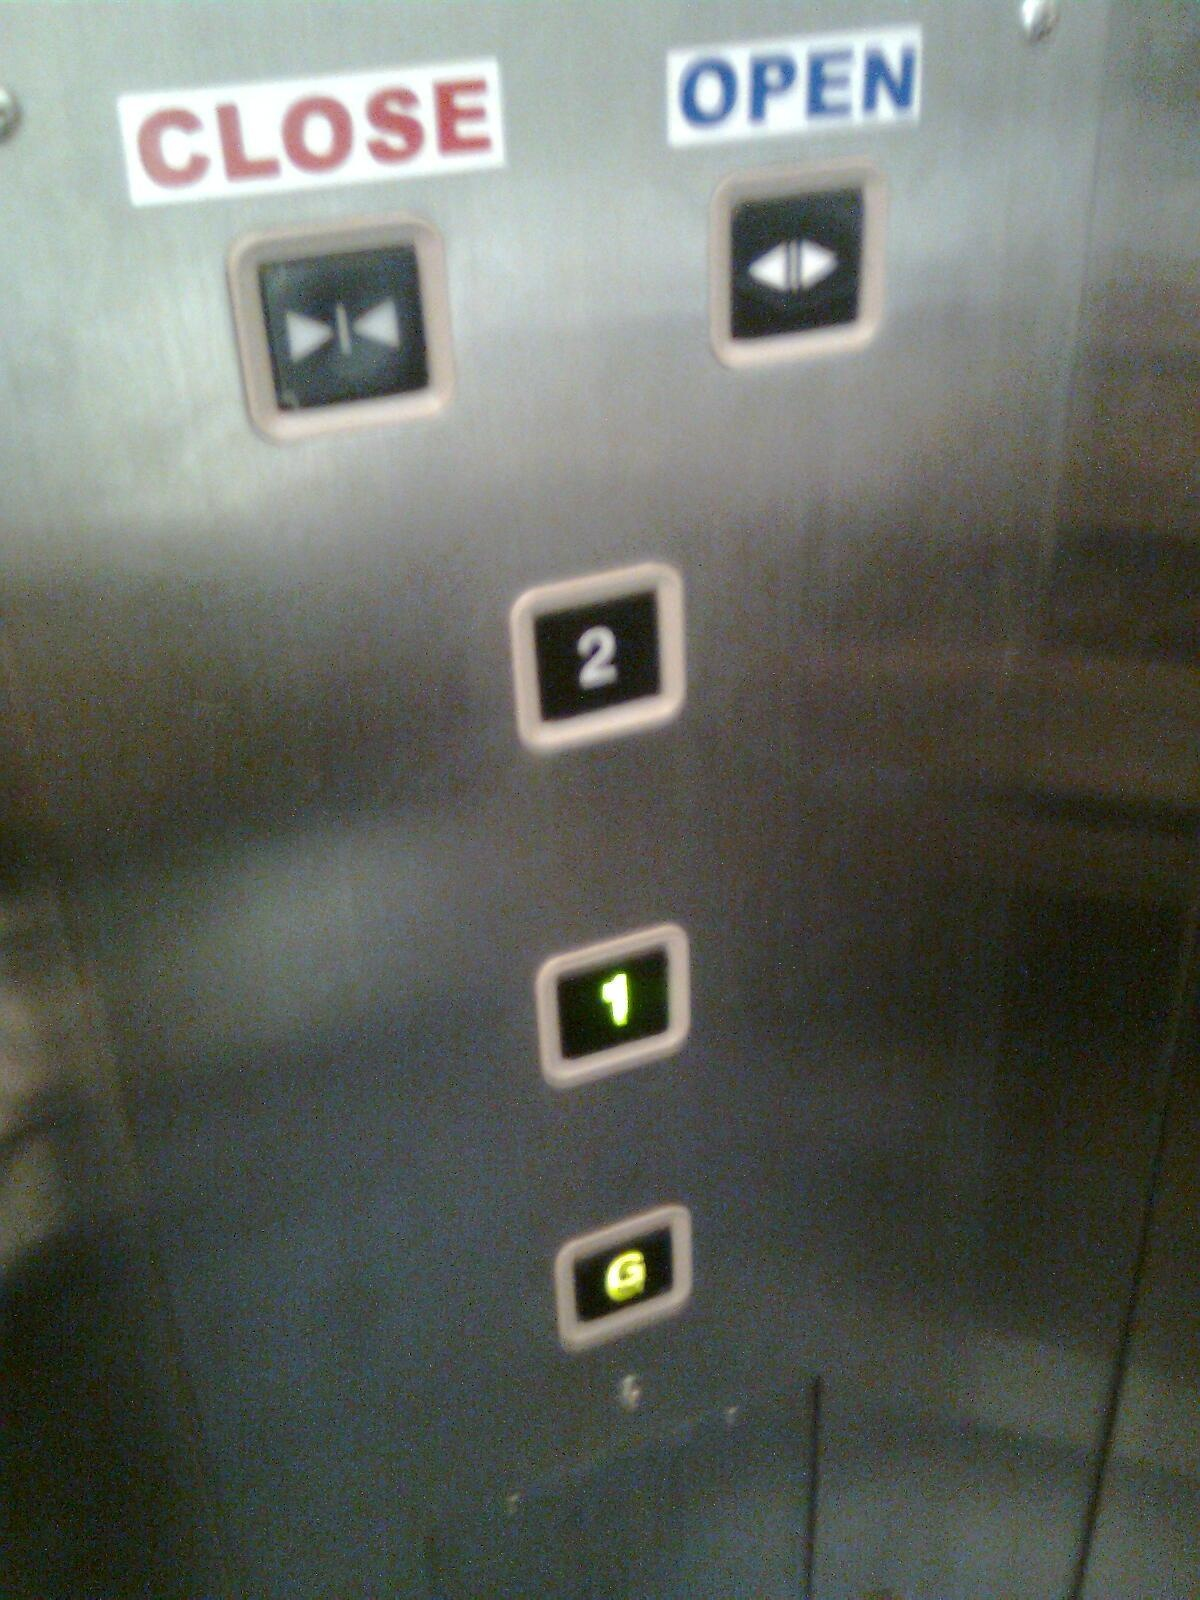1: (532, 918, 696, 1091)
2: (505, 556, 691, 755)
G: (545, 1201, 693, 1352)
close: (224, 210, 474, 452)
open: (705, 155, 896, 375)
